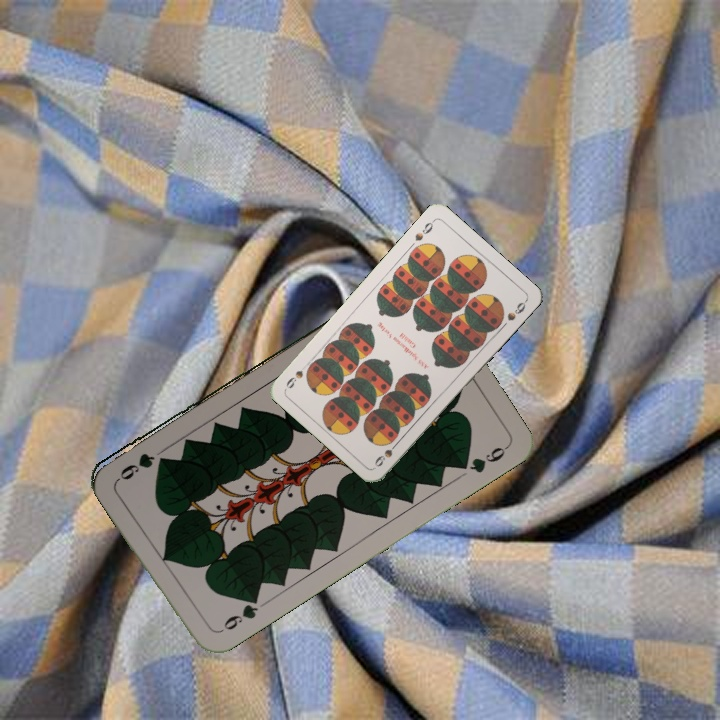G9: (212, 592, 261, 636)
S9: (370, 436, 402, 470), (411, 215, 437, 244)
